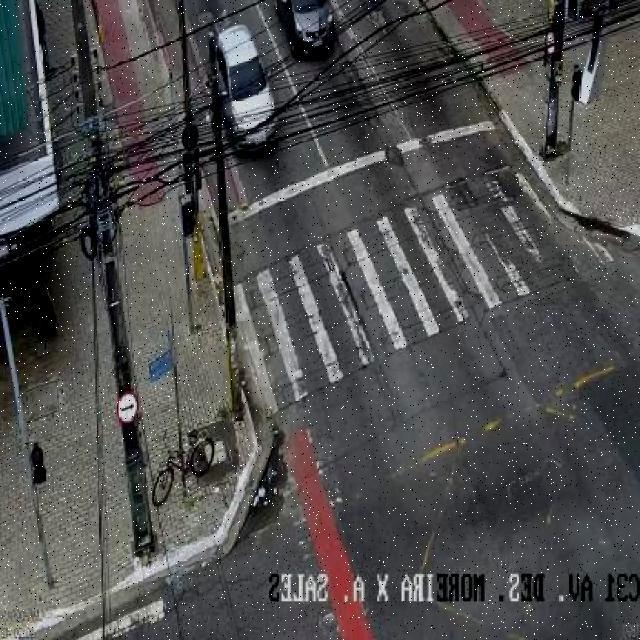Car: (202, 26, 282, 160)
